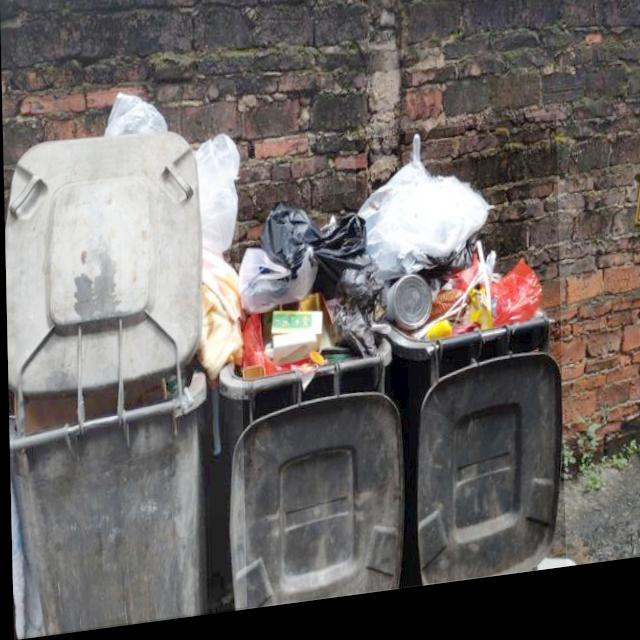overflow: (2, 83, 244, 638), (354, 129, 563, 602), (214, 198, 392, 617)
